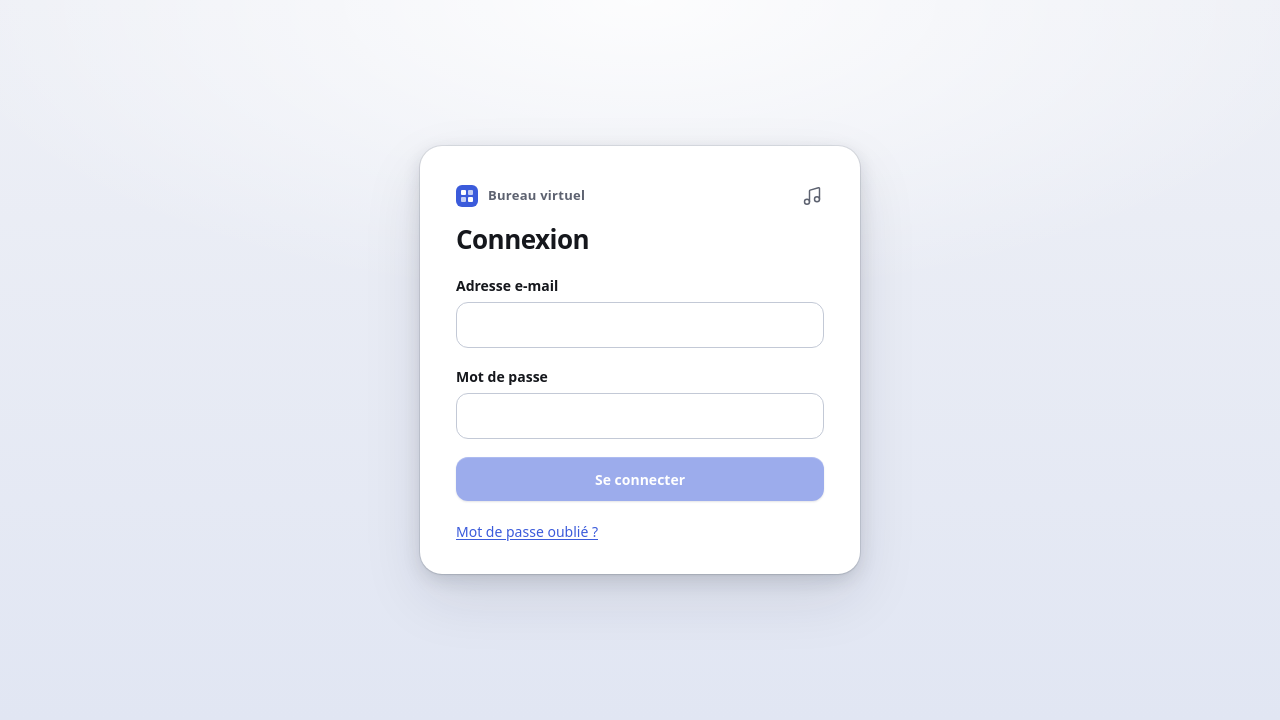
Scenario: identifiants refusés → message, on reste sur la page
Type "lea@x.fr" into the field labelled "Adresse e-mail" at (640, 325), box x1=456 y1=302 x2=824 y2=348
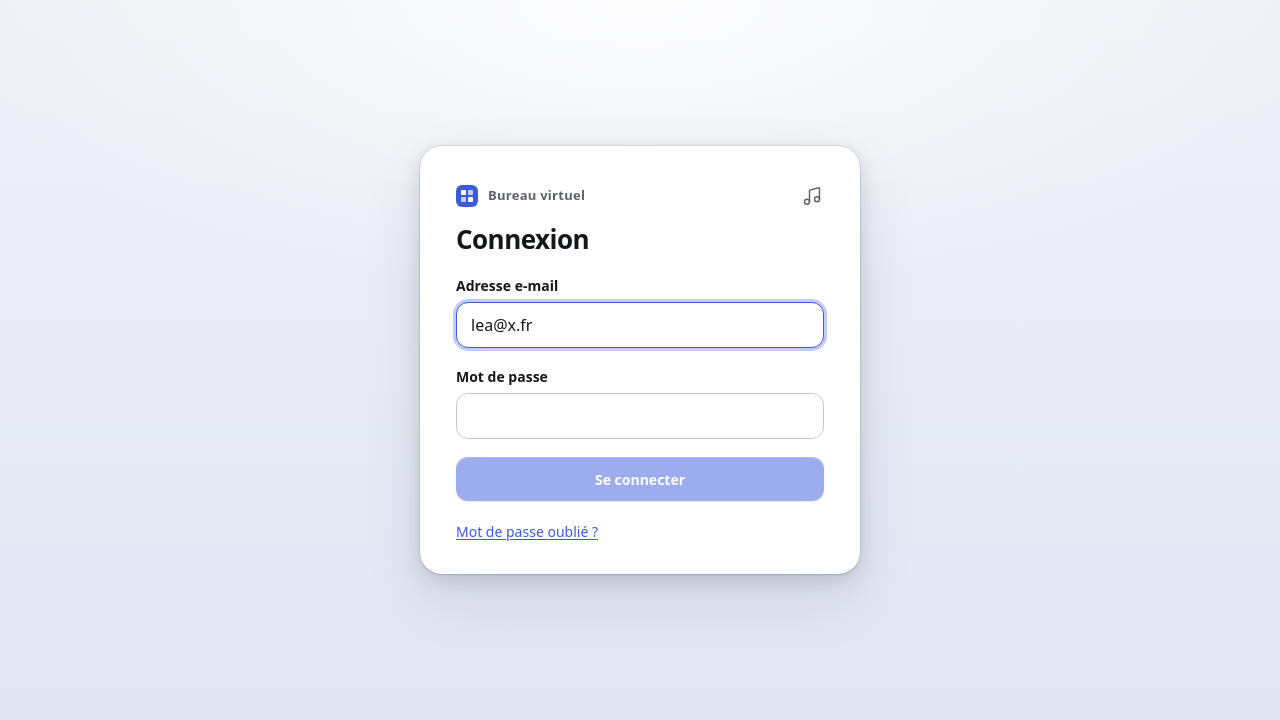
Type "pas-le-bon" into the password field labelled "Mot de passe" at (640, 416), box x1=456 y1=393 x2=824 y2=439
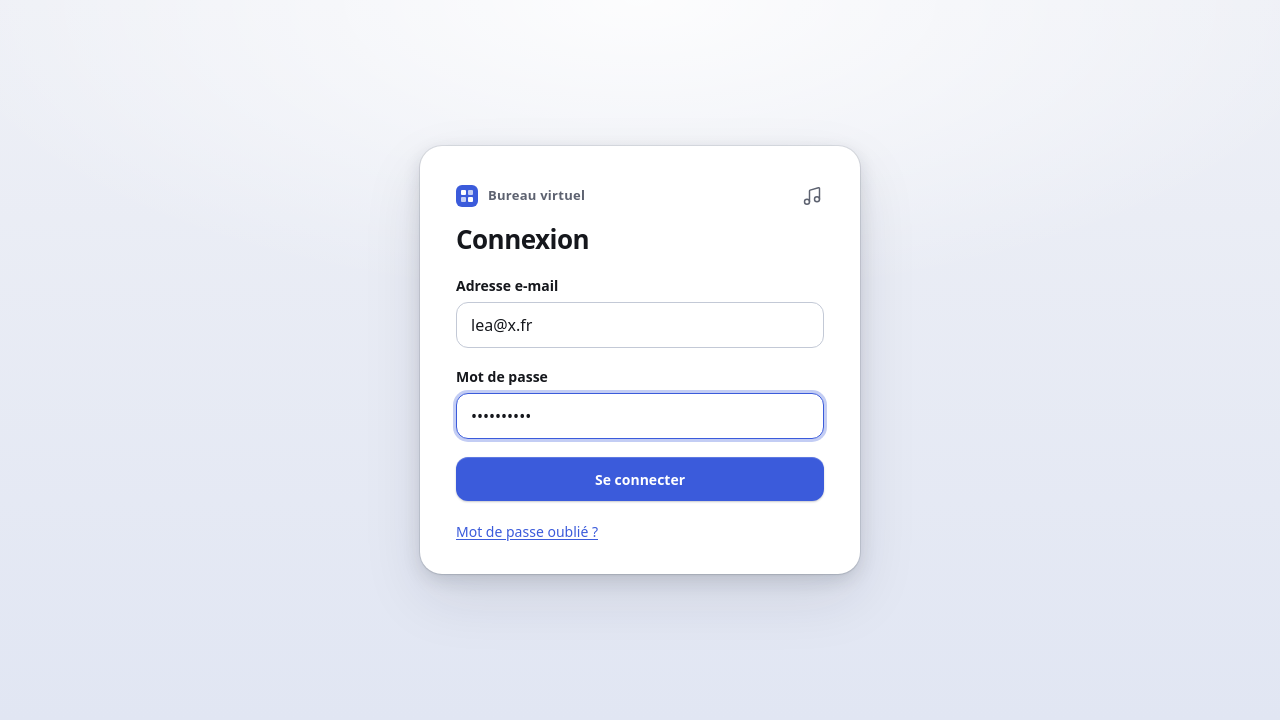
Click the button "Se connecter" at (640, 479), box x1=456 y1=457 x2=824 y2=501
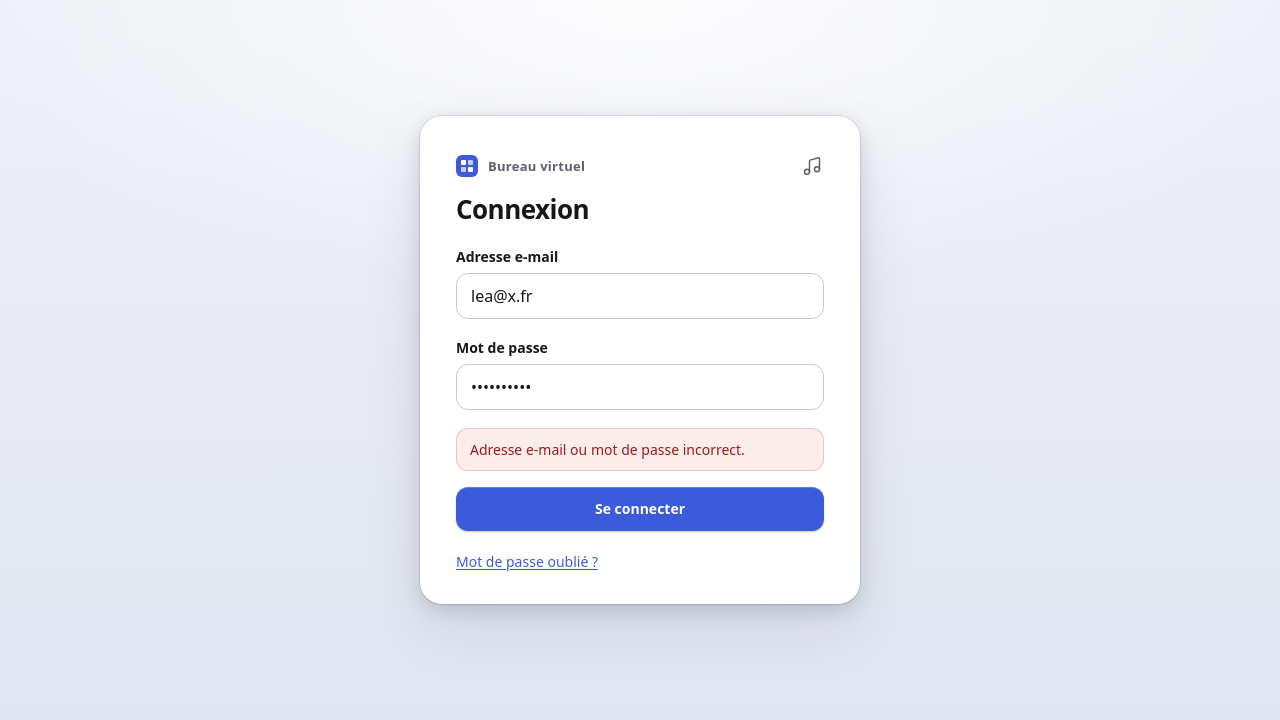
Result: the button "Se connecter" is enabled at x1=456 y1=487 x2=824 y2=531
Result: the message reads "Adresse e-mail ou mot de passe incorrect." at x1=470 y1=440 x2=745 y2=459
